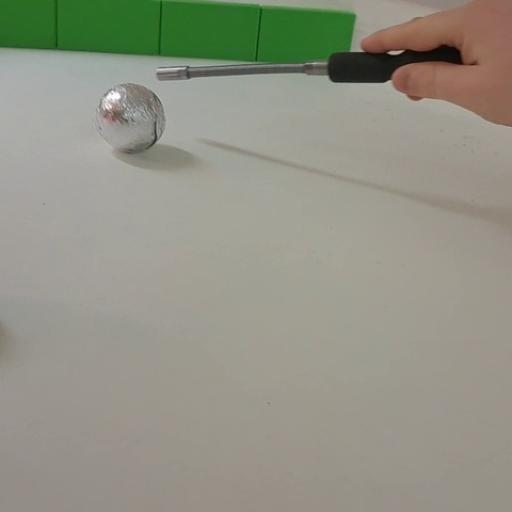alive: (93, 82, 165, 154)
